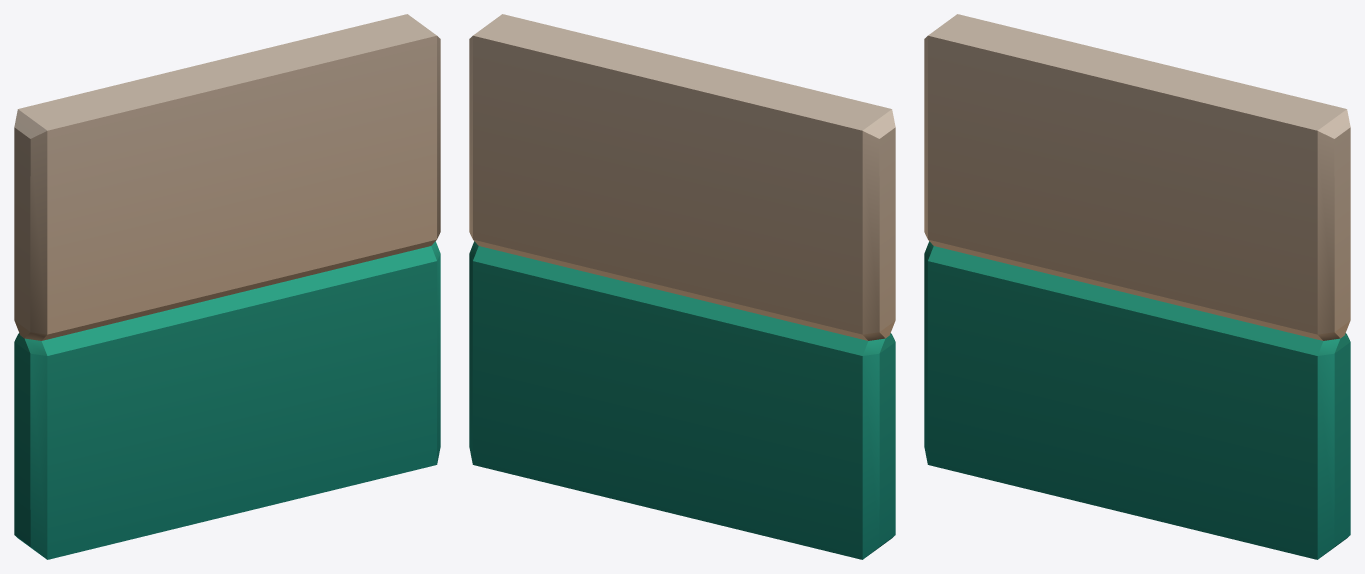
Rendered from decor-marche.glb.
3 renders of one model, left to right at view 1: azimuth 30°, elevation 25°; view 2: azimuth 150°, elevation 25°; view 3: azimuth 330°, elevation 25°, orthographic.
Visible parts, largest first — view 1: wall; view 2: wall; view 3: wall.
Part boxes in pixels (left/top/right/bottom): wall: left=14, top=14, right=440, bottom=559; wall: left=469, top=14, right=895, bottom=559; wall: left=924, top=14, right=1350, bottom=559.
Size of the model in its own units: 4 by 4 by 0.5.
